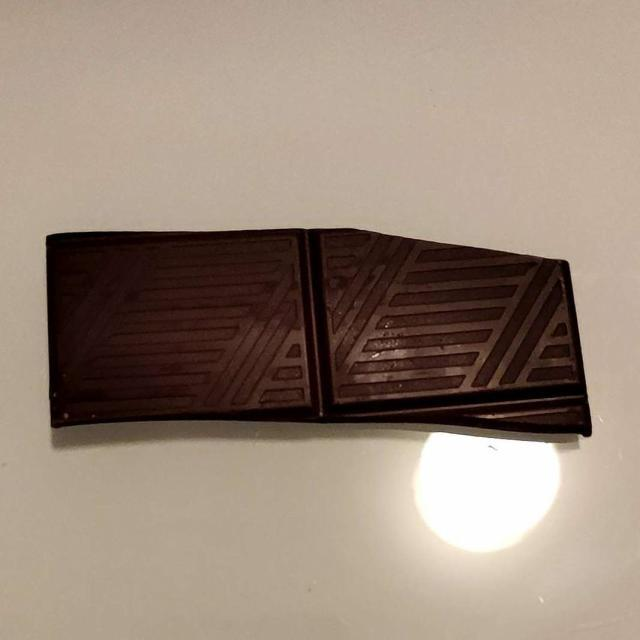chocolate: (45, 227, 580, 445)
